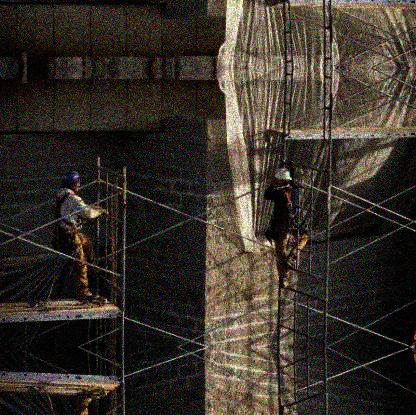helmet: (61, 168, 81, 193), (272, 168, 294, 190)
